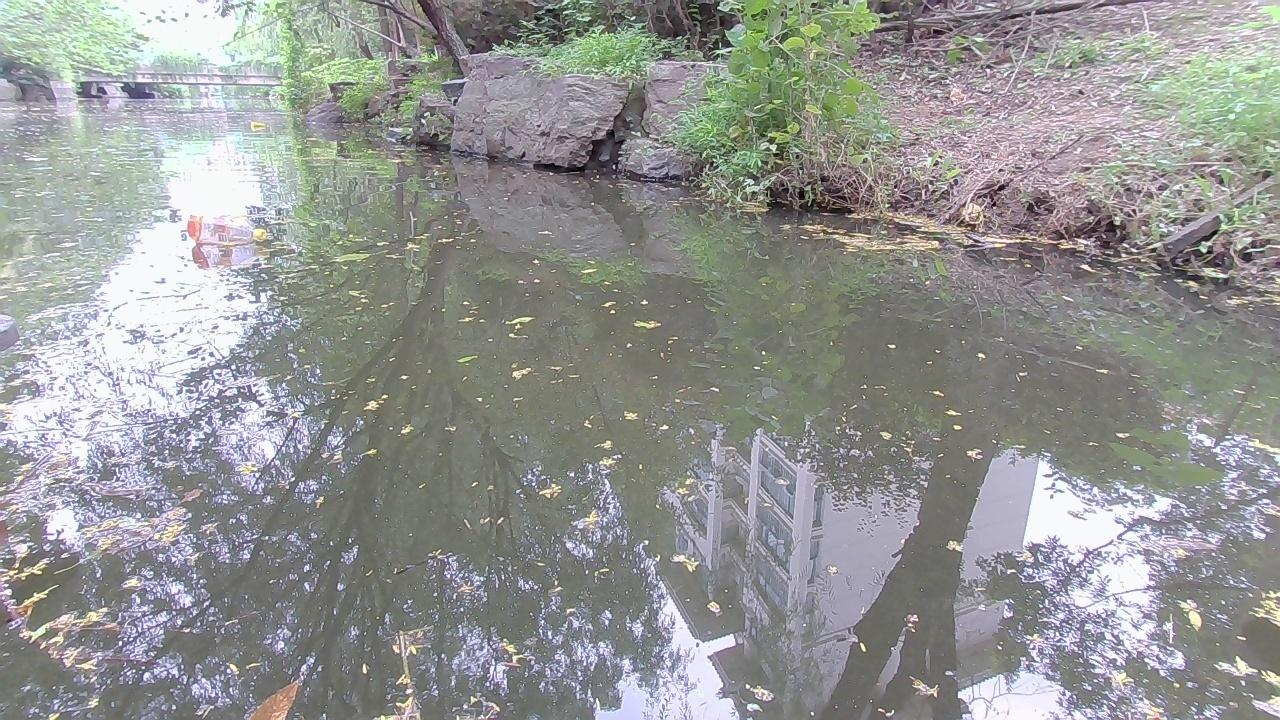bottle: (176, 207, 264, 246), (248, 120, 265, 133)
